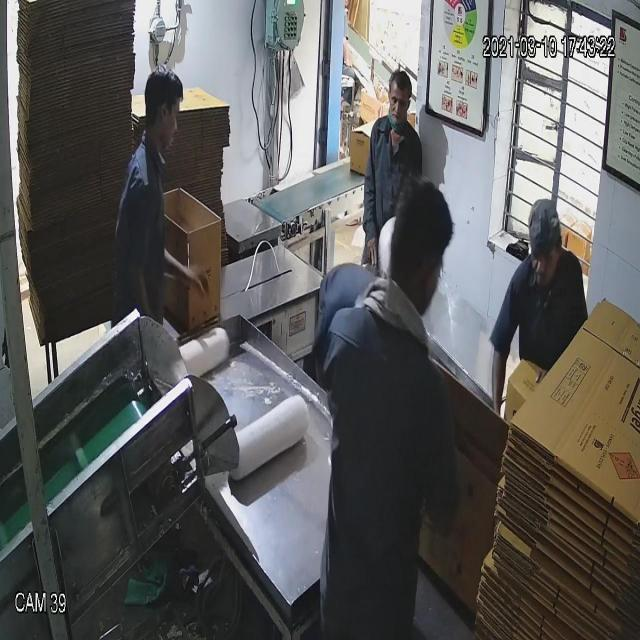No_Gloves: (23, 70, 370, 268)
